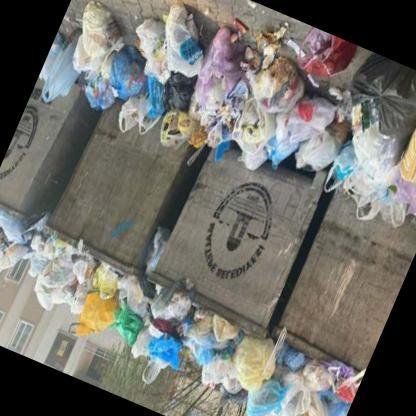Garbage: (30, 0, 415, 256), (0, 206, 366, 415), (322, 46, 415, 158), (132, 0, 220, 95), (226, 3, 296, 84), (334, 112, 410, 186), (119, 324, 188, 398), (56, 288, 124, 363), (223, 326, 293, 395), (69, 0, 140, 65), (182, 63, 240, 138), (90, 47, 150, 114), (30, 250, 86, 320), (34, 36, 86, 110), (252, 57, 310, 119), (273, 375, 345, 415), (228, 369, 289, 415), (236, 131, 288, 178), (198, 346, 240, 392), (0, 229, 32, 289), (37, 256, 78, 292)
